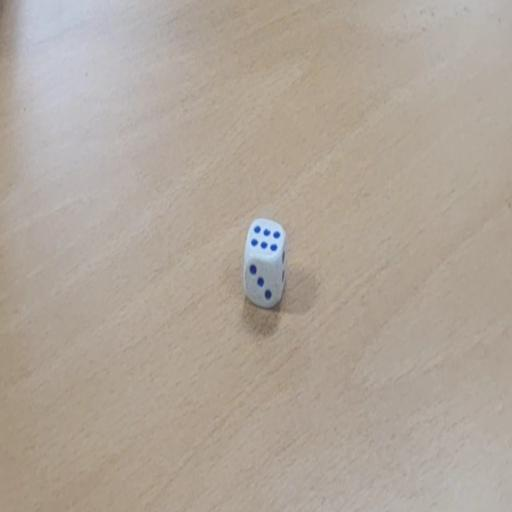dice_6: (242, 217, 288, 310)
